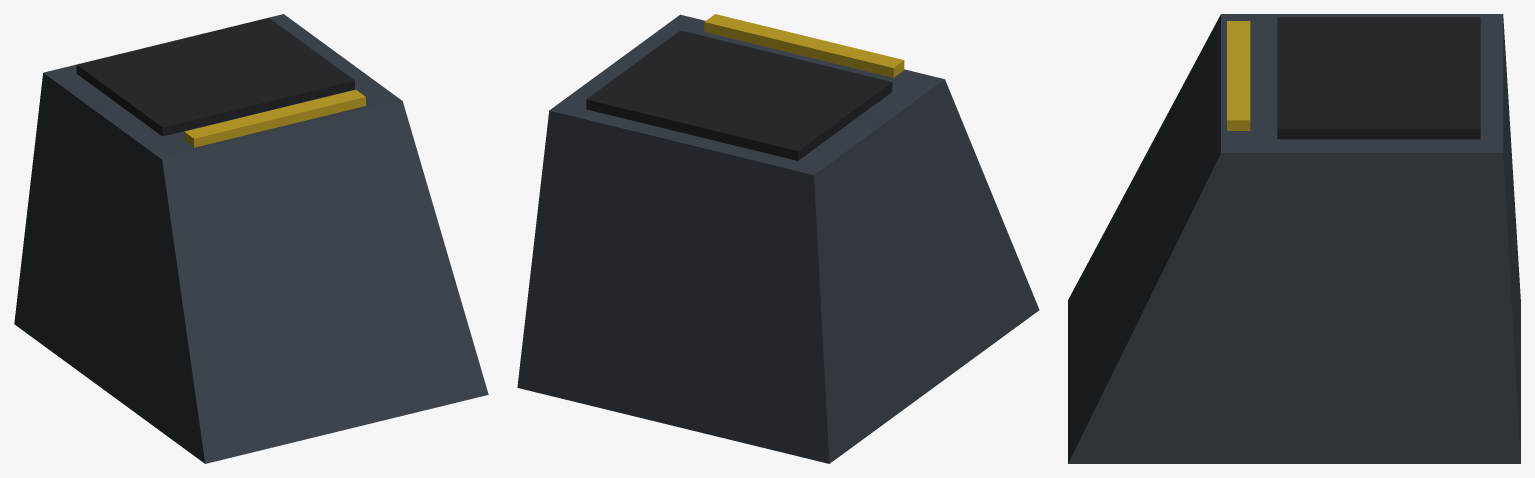
The model's file is bp10_housing.obj.
3 views of the same model, side by side, from view 1: azimuth 30°, elevation 25°; view 2: azimuth 150°, elevation 25°; view 3: azimuth 270°, elevation 25° (orthographic). The views are drawn at different scales.
Parts seen in each view (by area): view 1: bp10_housing; view 2: bp10_housing; view 3: bp10_housing.
Boxes of the visible parts, x1=… form: bp10_housing: x1=14, y1=14, x2=488, y2=463; bp10_housing: x1=517, y1=14, x2=1039, y2=463; bp10_housing: x1=1068, y1=14, x2=1520, y2=463.
Bounding box in the file's own units: 0.66 × 0.584 × 0.77.
